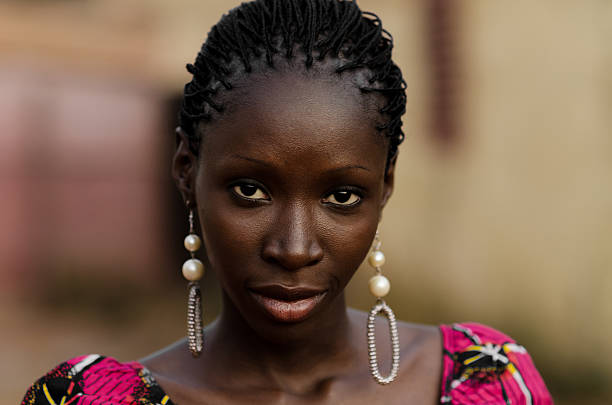person: (171, 1, 401, 344)
